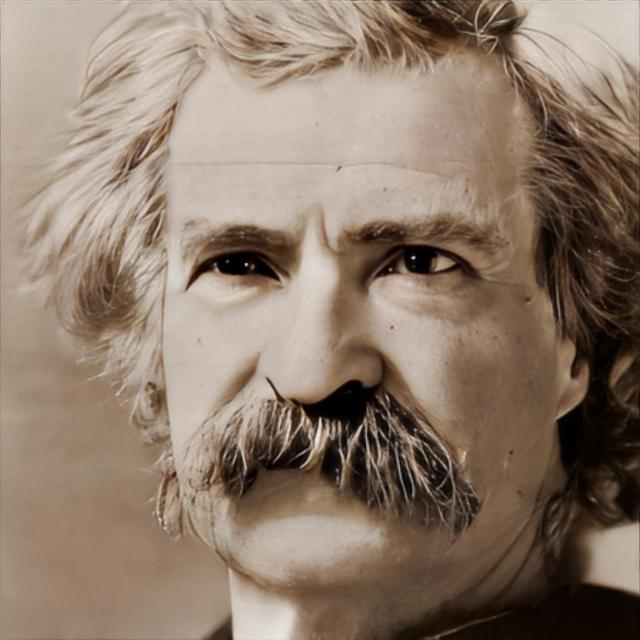anger: (158, 52, 562, 589)
